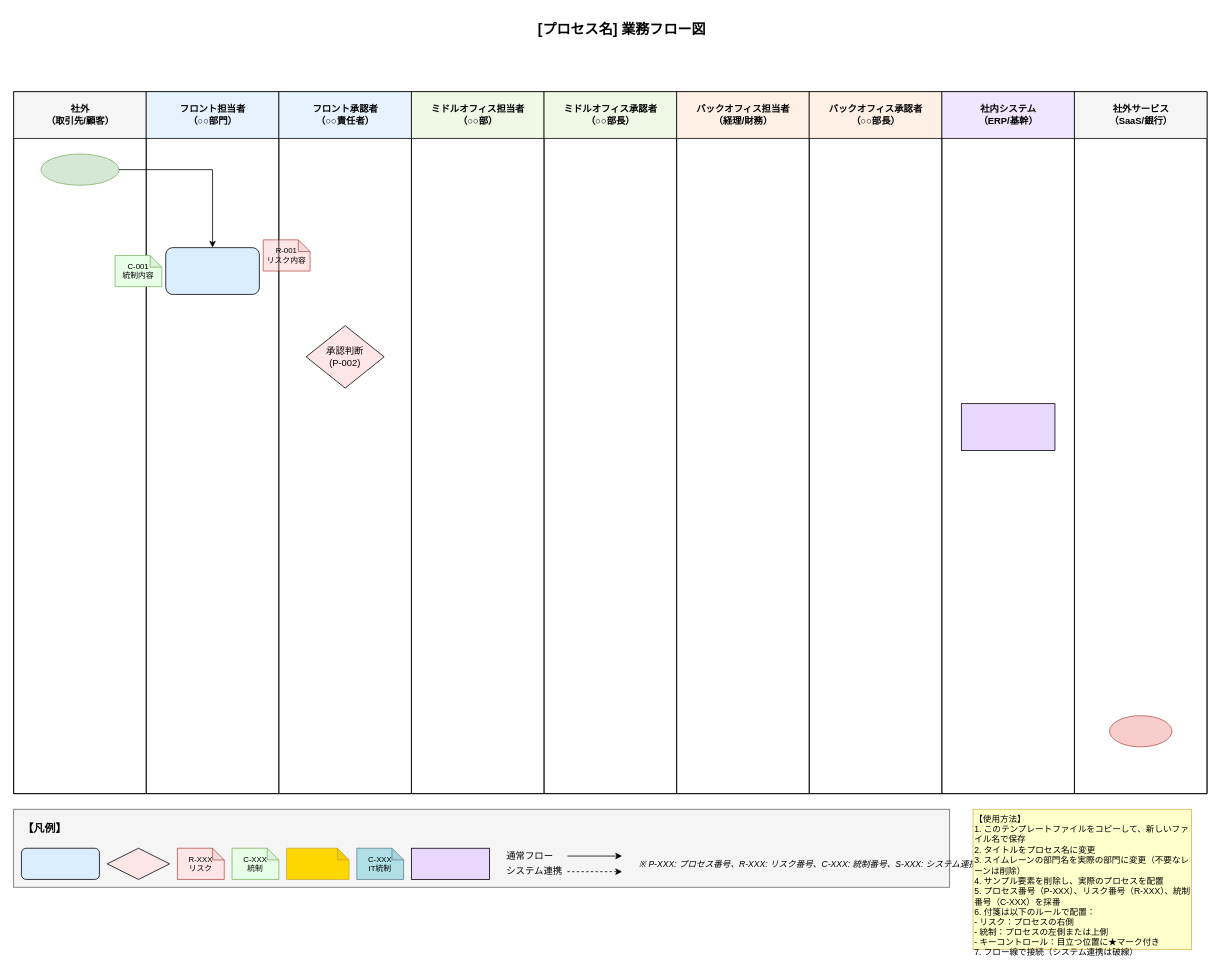
Some shapes in this 1221 by 972 pixel diagram are drawn without their labels. The shapes that lost their labels are listed below. From the top down, each one's centre as x and y in pixels, then its label:
the point at 79,169: 開始
the point at 212,270: プロセス名 (P-001)
the point at 1008,426: システム処理 (S-001)
the point at 1140,731: 終了
the point at 60,863: 業務プロセス
the point at 138,863: 承認・判断
the point at 317,863: C-XXX ★ キーコントロール
the point at 450,863: システム処理
